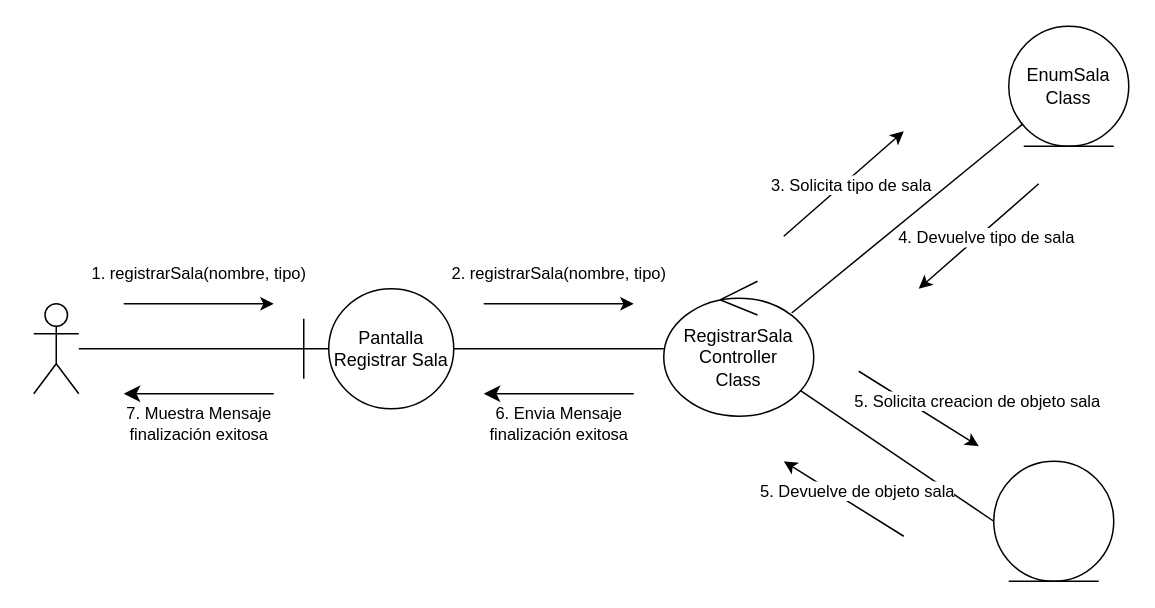
Some shapes in this 1155 by 608 pixel diagram are drawn without their labels. Each missing label, with the box of its shape:
Sala Class: (992, 460, 1114, 581)
Usuario: (32, 302, 79, 394)
